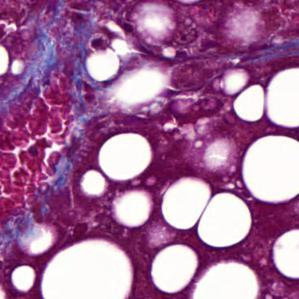steatosis: (40, 237, 132, 299), (243, 133, 299, 205), (98, 132, 154, 182), (151, 245, 199, 293), (273, 228, 299, 280), (12, 264, 35, 294)
